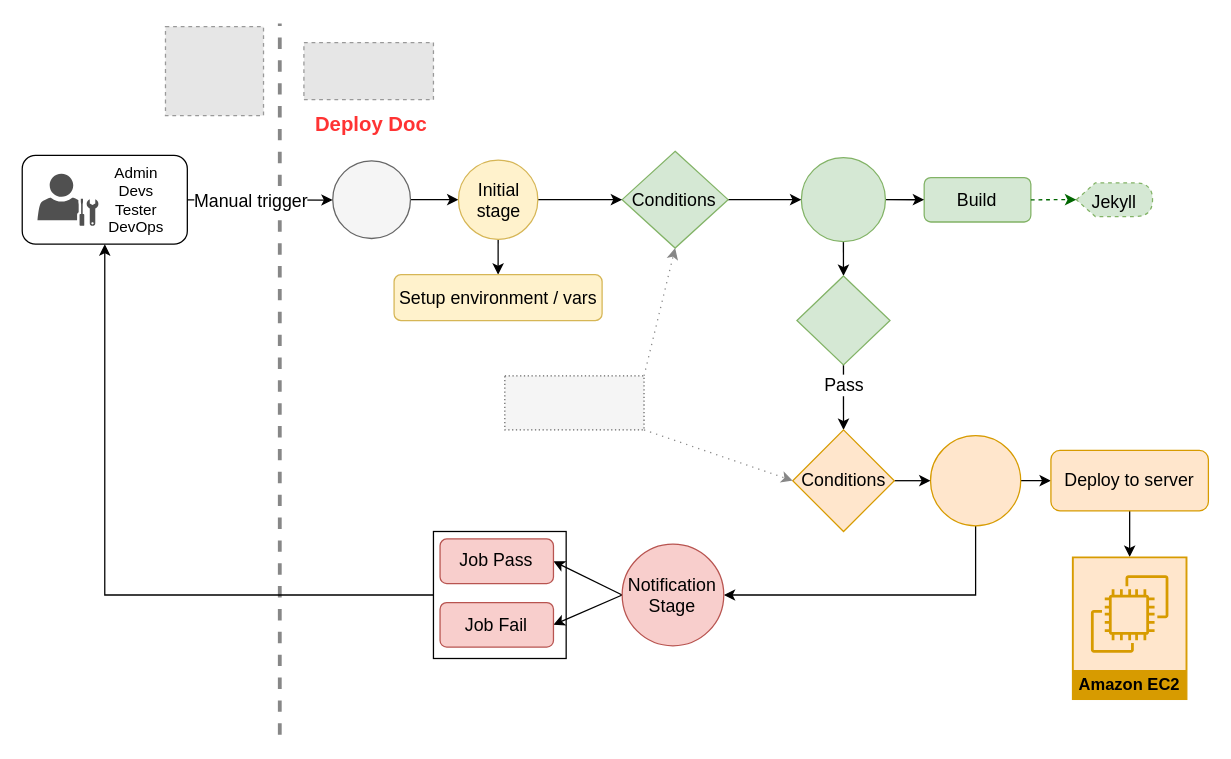
This 1231x759 diagram has some shape labels left out. Grey dashed boxes stand in for pictures. Each missing label, with the centre of its shape:
Build Stage: pixel 842 199
Build Status: pixel 843 320
Deploy stage: pixel 975 480
Input Var(s): - $Deploy = true: pixel 574 402
Pipeline: pixel 370 199
